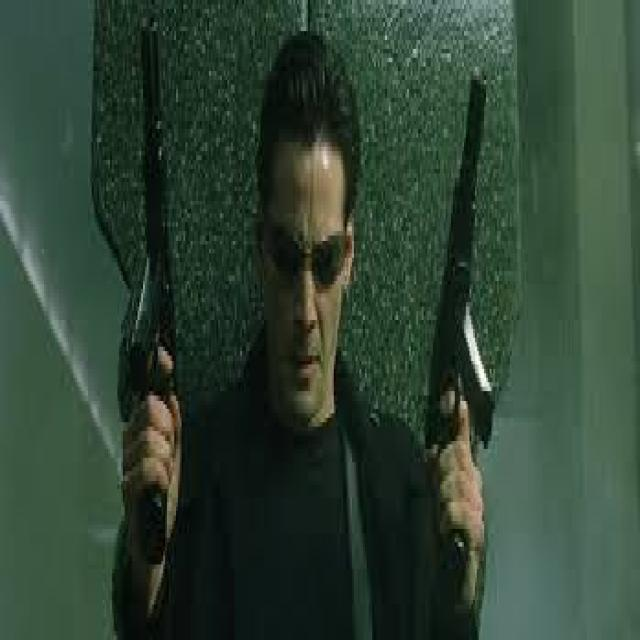gun: (410, 28, 506, 591), (111, 0, 187, 562)
